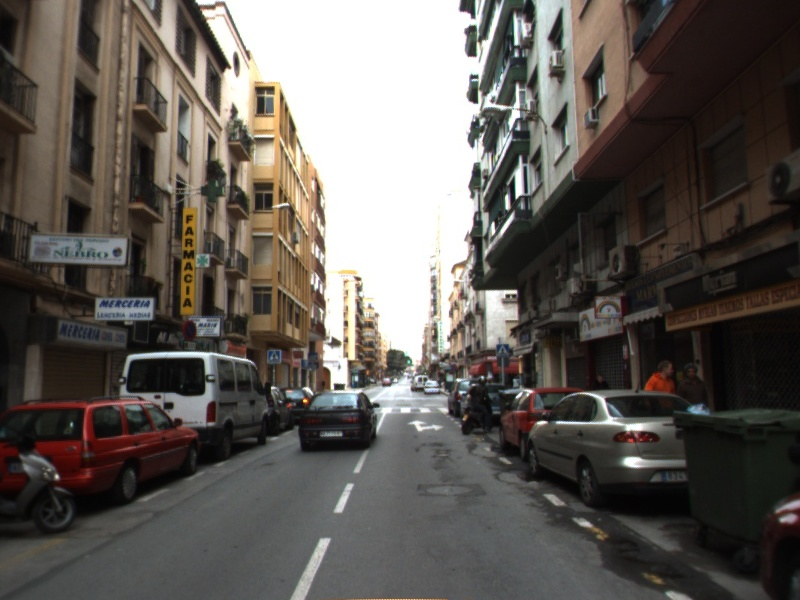STRAIGHT_RIGHT: (405, 418, 445, 433)
